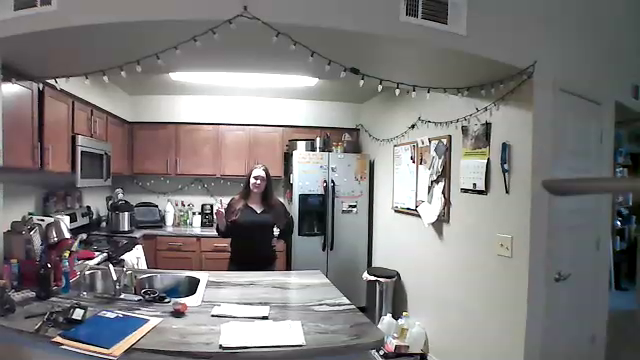up: (209, 197, 228, 222)
